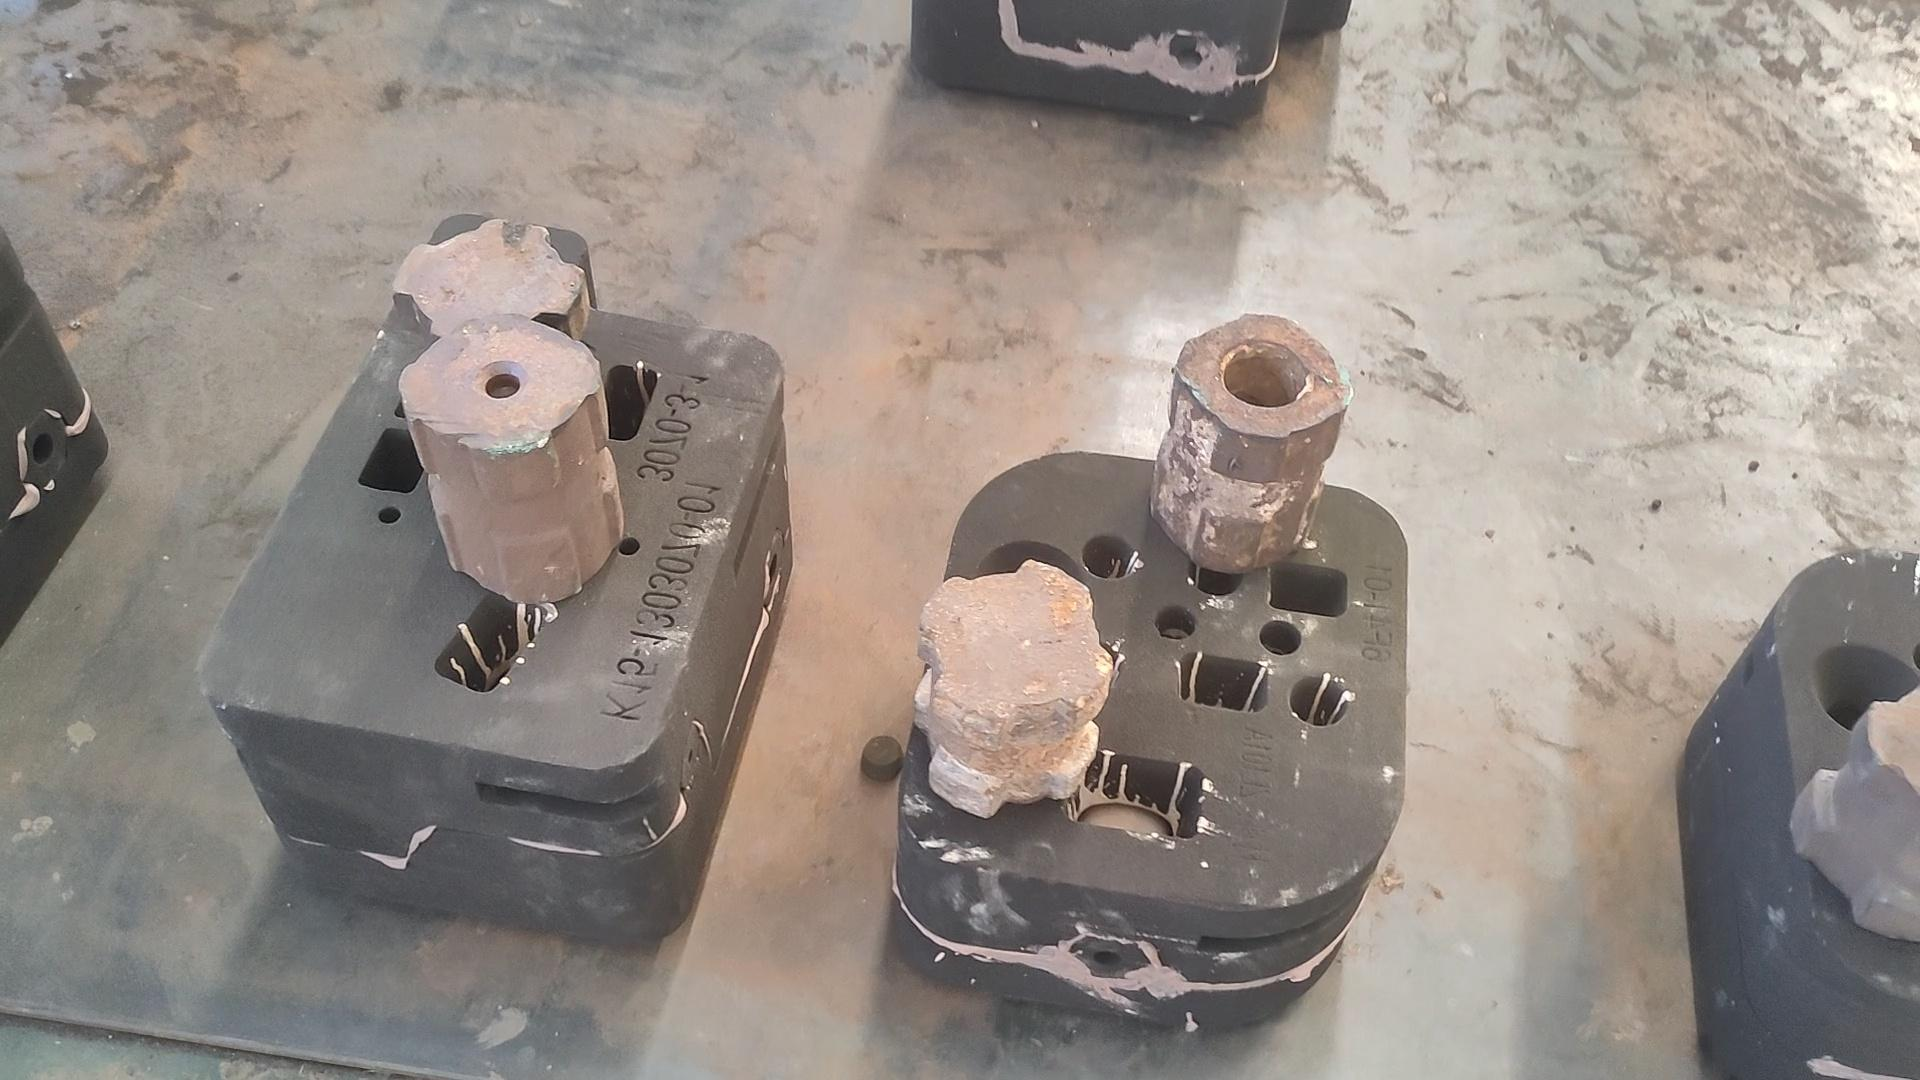pouring hole: (1813, 640, 1920, 741), (975, 538, 1088, 626), (438, 237, 539, 314)
